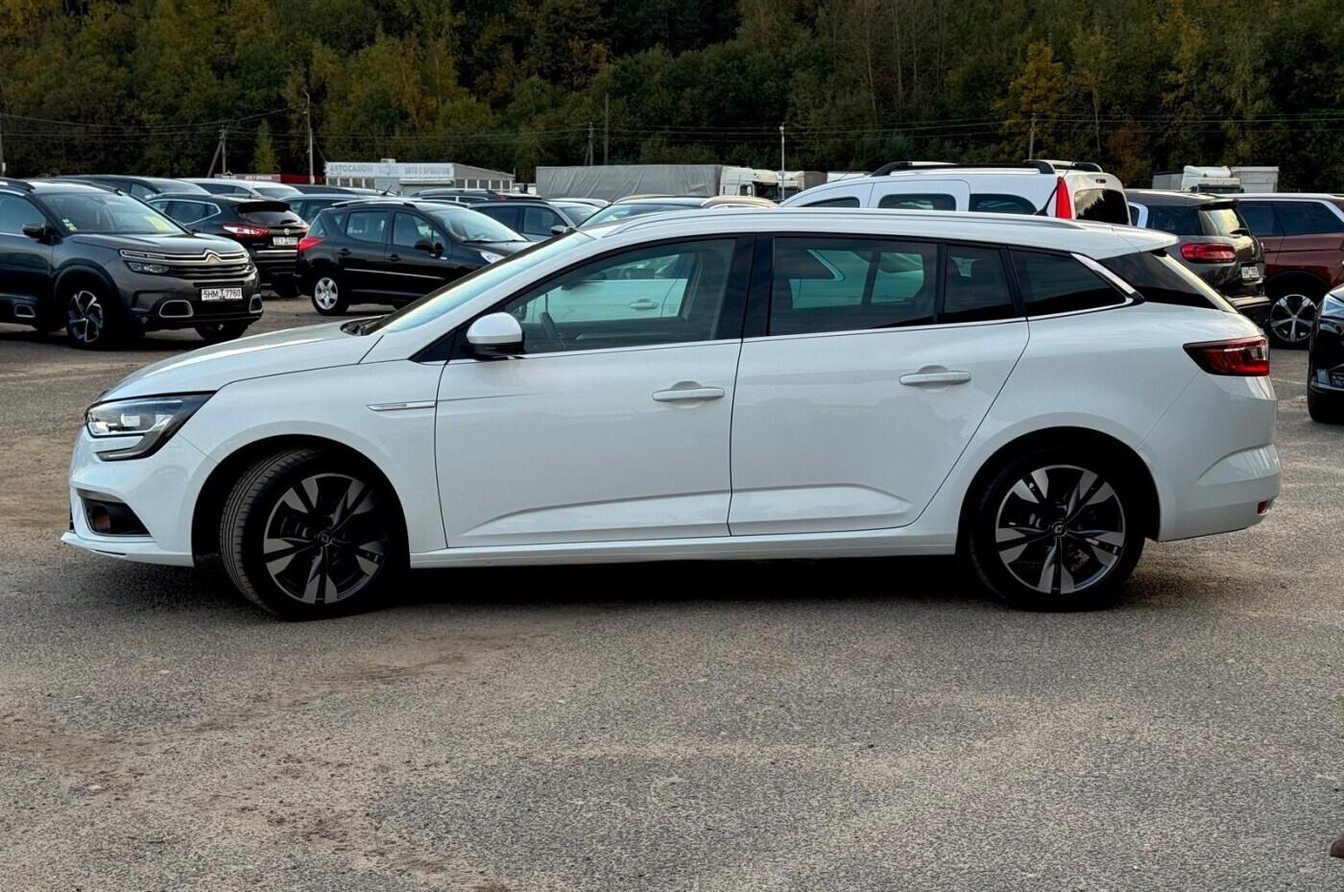Megane_2016-2020: (58, 198, 1289, 623)
